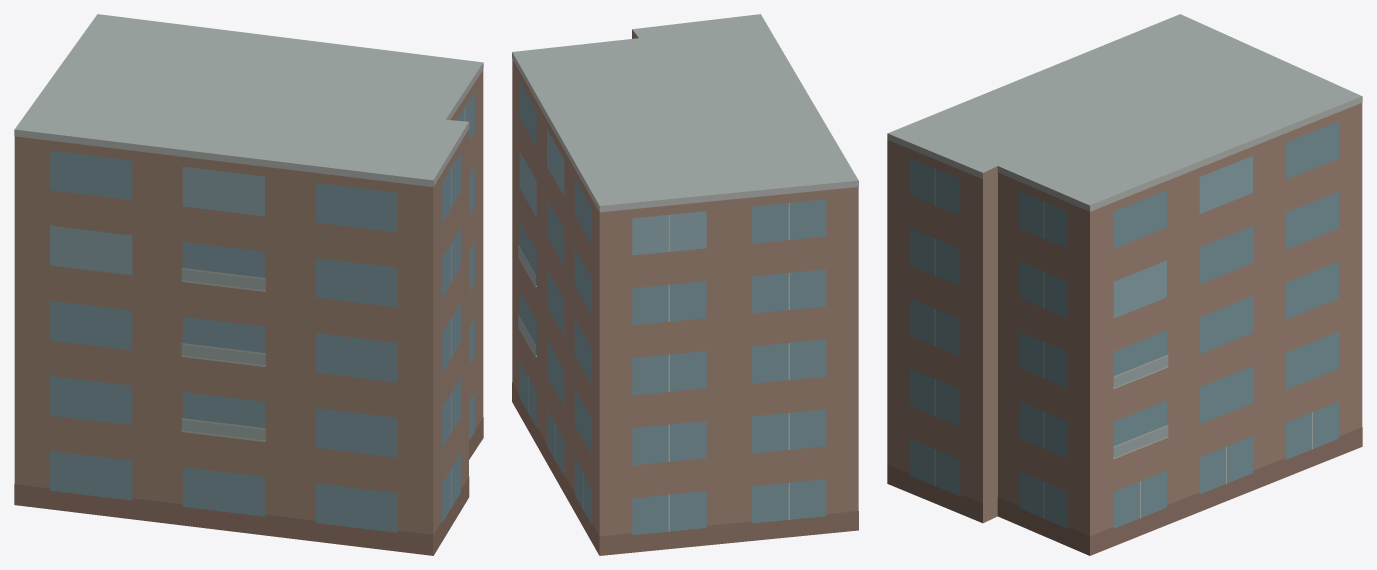
File: survey-upis-33045442.glb
3 views of the same model, side by side, from view 1: azimuth 30°, elevation 25°; view 2: azimuth 150°, elevation 25°; view 3: azimuth 270°, elevation 25° (orthographic). The views are drawn at different scales.
Parts seen in each view (by area): view 1: survey-upis-33045442.tmp; view 2: survey-upis-33045442.tmp; view 3: survey-upis-33045442.tmp.
Part boxes in pixels (x1,y1,x2,y2): survey-upis-33045442.tmp: (14, 14, 483, 555); survey-upis-33045442.tmp: (512, 14, 858, 555); survey-upis-33045442.tmp: (887, 14, 1362, 555).
Size of the model in its own units: 15.83 by 13.5 by 16.6.
